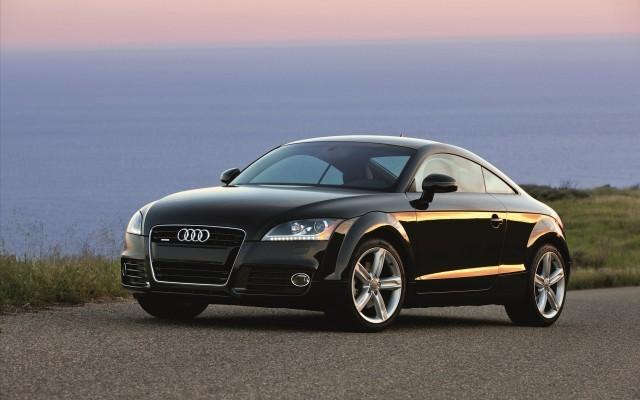Audi: (173, 224, 217, 247)
